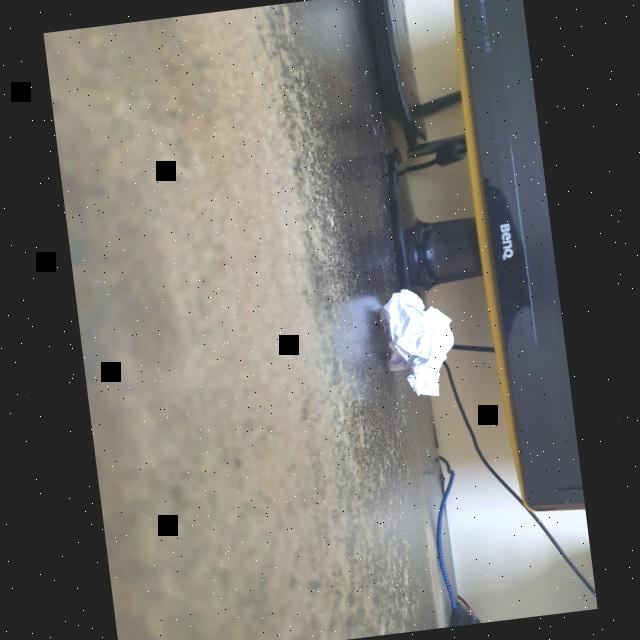scrap_paper: (378, 286, 462, 404)
